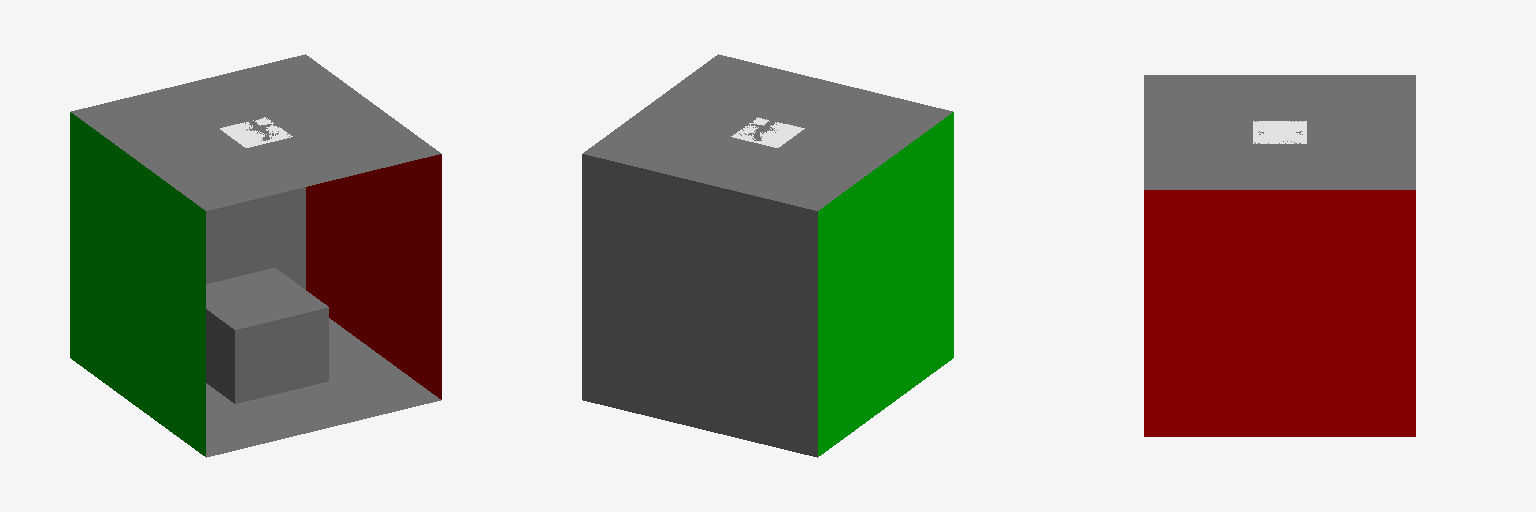
Rendered from cornellbox-test-5-lamp.obj.
3 renders of one model, left to right at view 1: azimuth 30°, elevation 25°; view 2: azimuth 150°, elevation 25°; view 3: azimuth 270°, elevation 25°, orthographic.
Visible parts, largest first — view 1: front_wall_Plane.005, ceiling_Plane.007, back_wall_Plane.001, Cube_Cube.001, floor_Plane, left_wall_Plane.002, 'lamp'_Plane.008; view 2: left_wall_Plane.002, front_wall_Plane.005, ceiling_Plane.007, 'lamp'_Plane.008; view 3: back_wall_Plane.001, ceiling_Plane.007, 'lamp'_Plane.008.
Part boxes in pixels (x1,y1,x2,y2): front_wall_Plane.005: (70,112,205,456); ceiling_Plane.007: (71,54,440,210); back_wall_Plane.001: (306,154,441,399); Cube_Cube.001: (206,268,328,403); floor_Plane: (206,318,440,457); left_wall_Plane.002: (206,187,305,289); 'lamp'_Plane.008: (220,117,292,147); left_wall_Plane.002: (582,154,817,457); front_wall_Plane.005: (818,112,953,456); ceiling_Plane.007: (583,54,952,210); 'lamp'_Plane.008: (731,117,804,147); back_wall_Plane.001: (1144,190,1415,436); ceiling_Plane.007: (1144,75,1415,189); 'lamp'_Plane.008: (1253,121,1306,143).
Bounding box in the file's own units: 10 × 10 × 10.